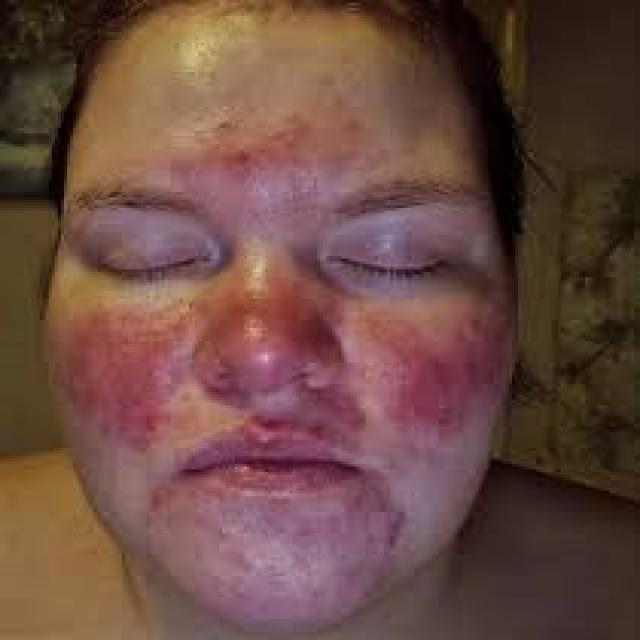Rosacea: (39, 286, 199, 446), (337, 291, 508, 436), (207, 206, 334, 384), (170, 94, 364, 188)
